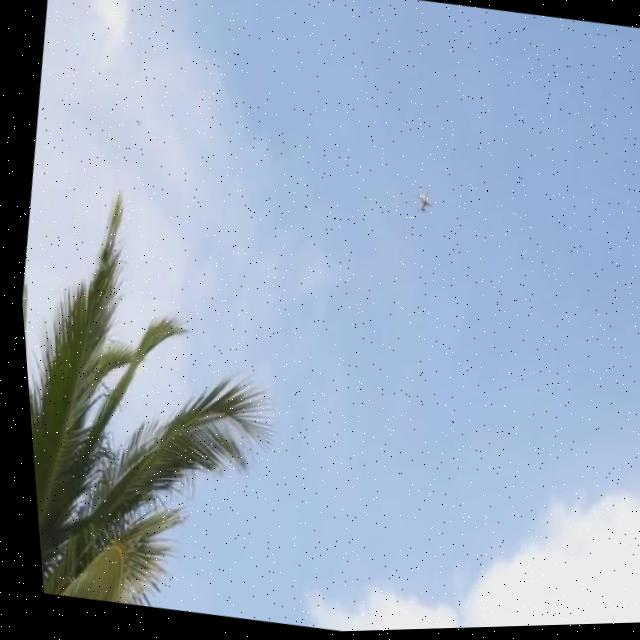drones: (391, 165, 446, 262)
